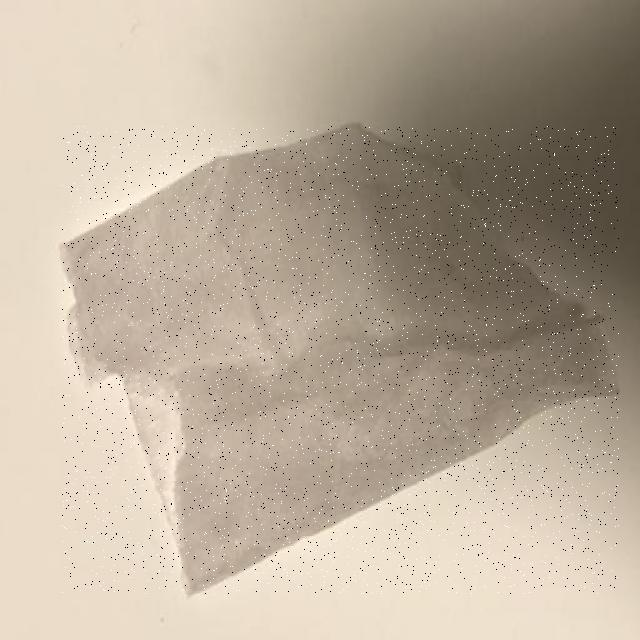paper: (63, 126, 619, 594)
